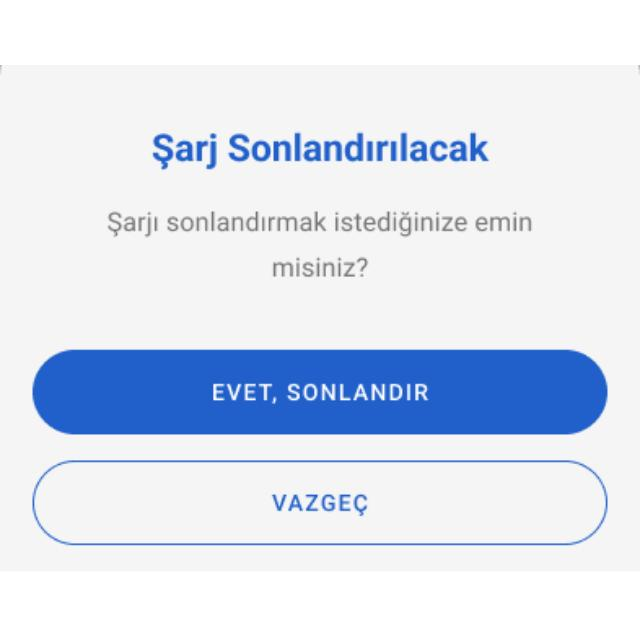QLabel: (146, 126, 490, 170), (104, 208, 534, 236), (206, 380, 432, 402), (267, 492, 373, 516), (270, 256, 372, 280)
VBtn: (33, 350, 609, 434), (32, 460, 608, 544)
VDialog: (0, 64, 640, 576)
